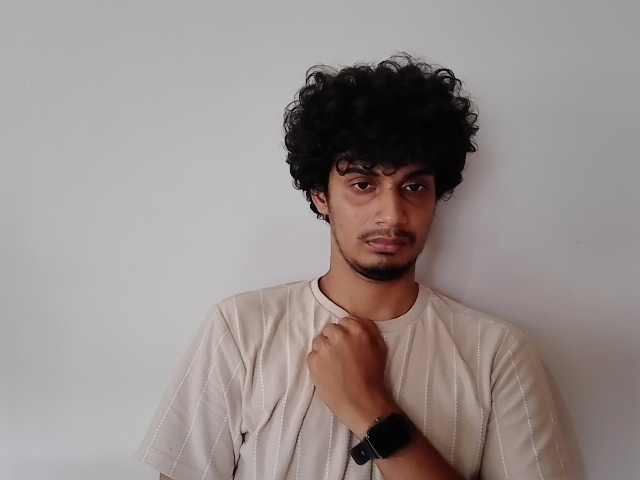sorry: (143, 287, 394, 444)
